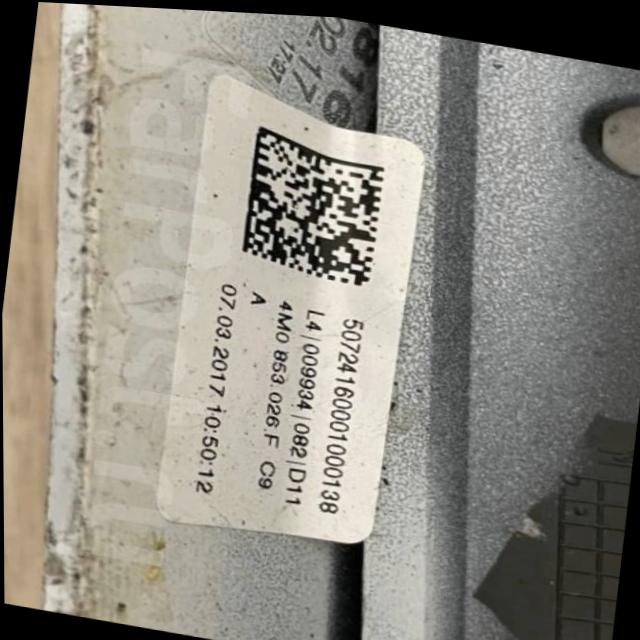datamatrix: (239, 123, 388, 286)
